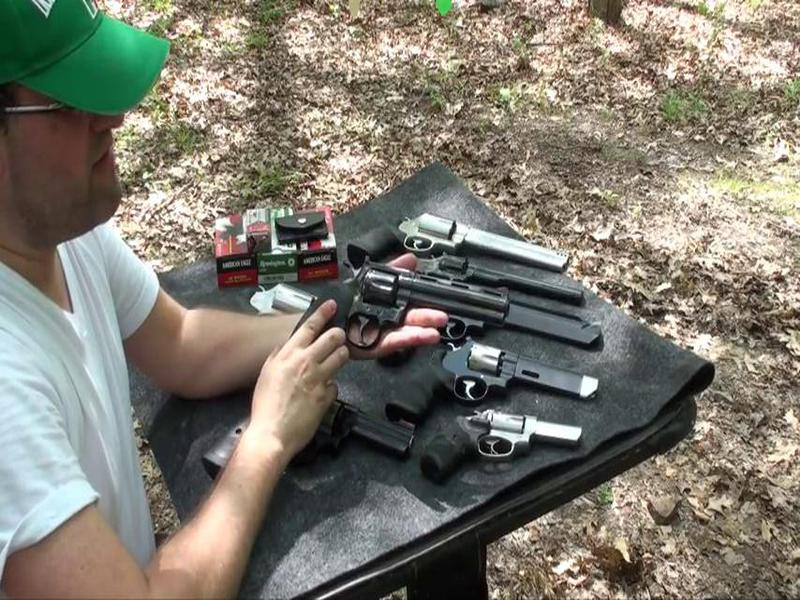Revolver: (300, 237, 509, 382)
